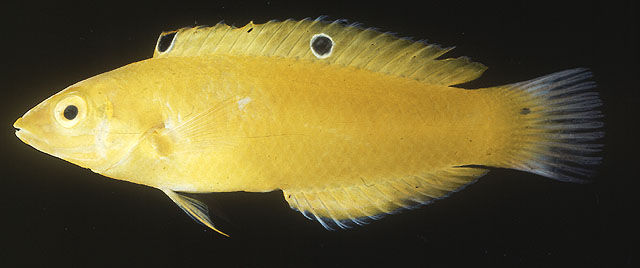fish: (12, 14, 606, 239)
